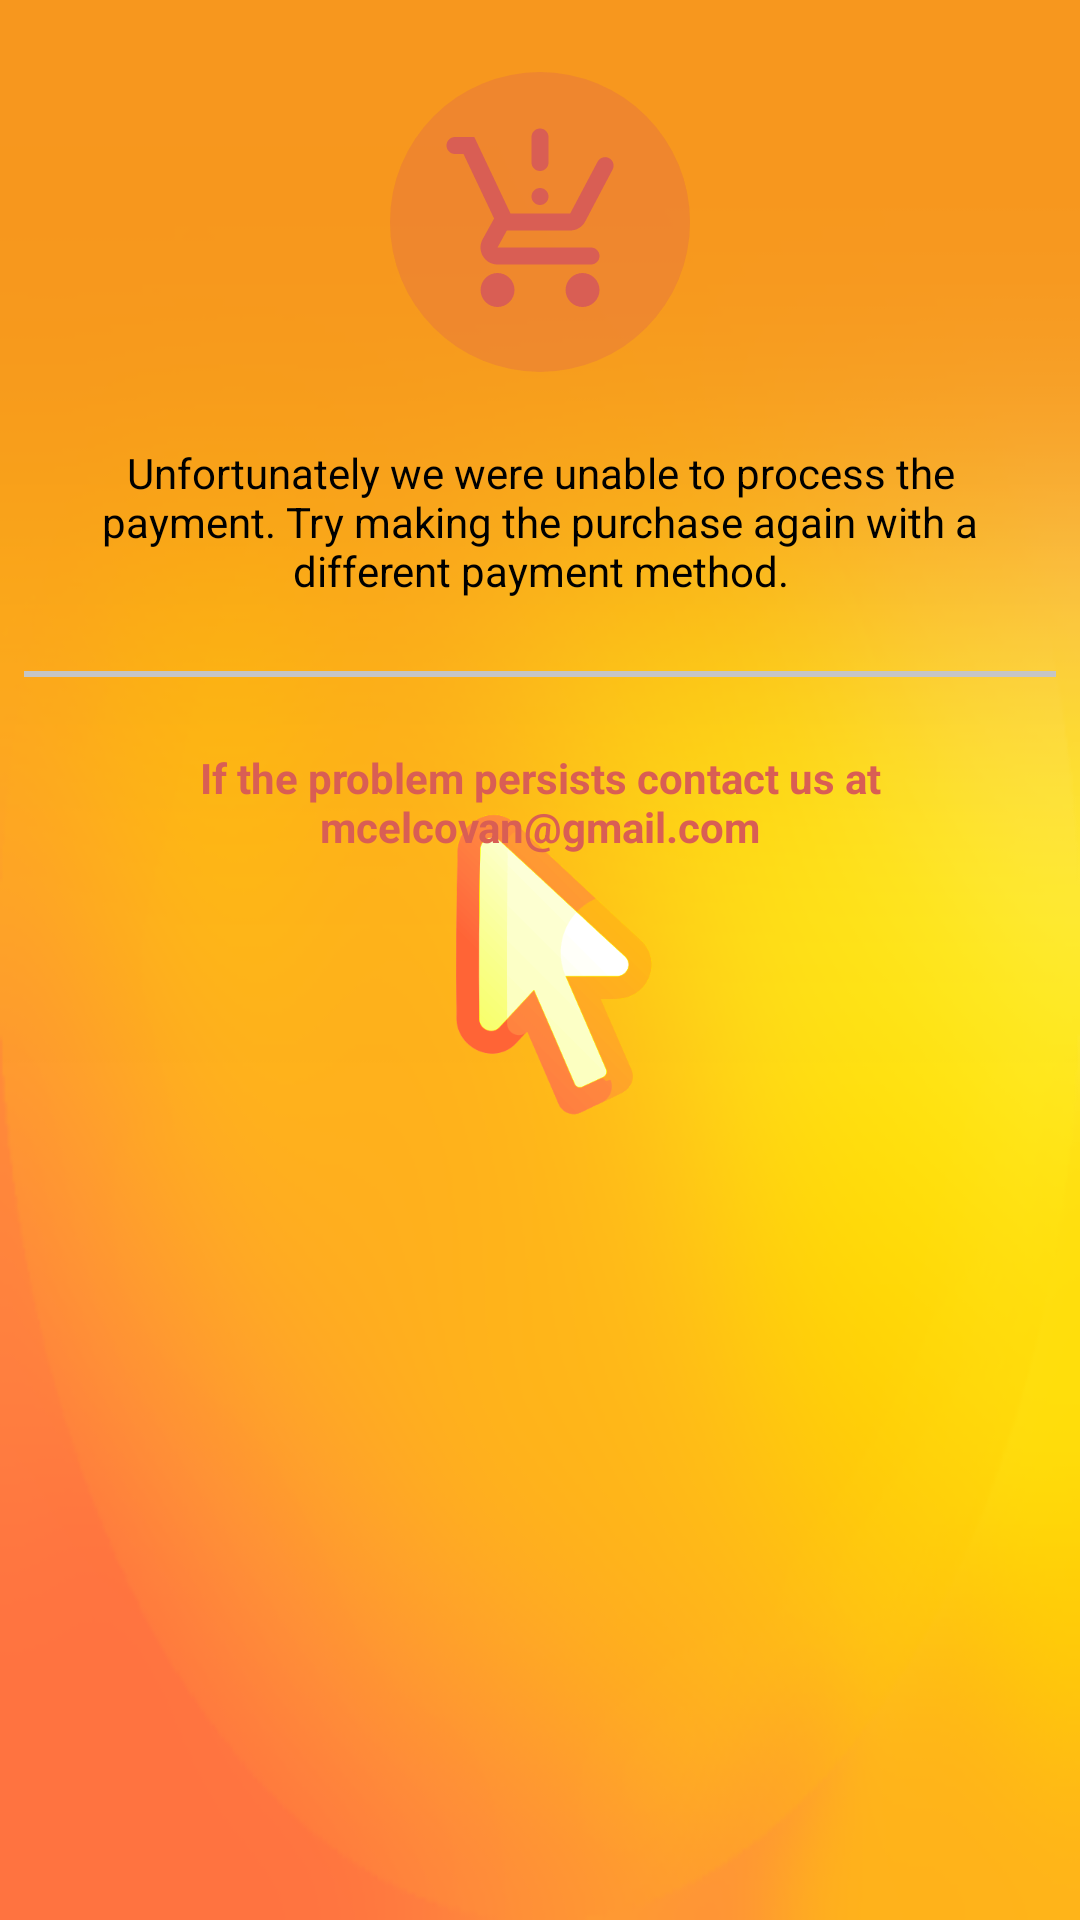

Locate icon controls on the screen. Image size 1080×1920, boxes as (x1, y1, x2, y2).
error: (390, 72, 690, 372)
